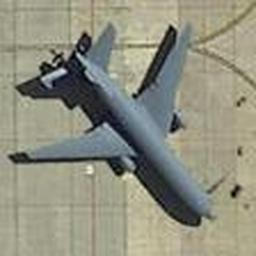Airplane: (7, 19, 217, 227)
